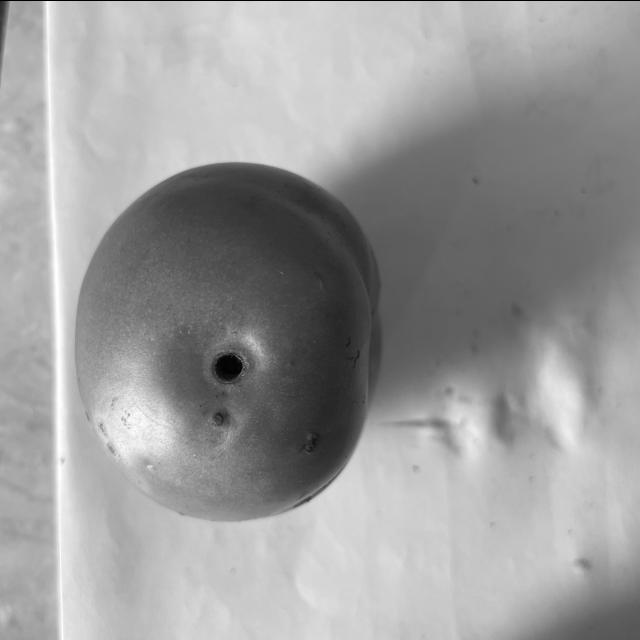fruitworm_bore: (197, 338, 253, 442), (291, 424, 327, 466)
